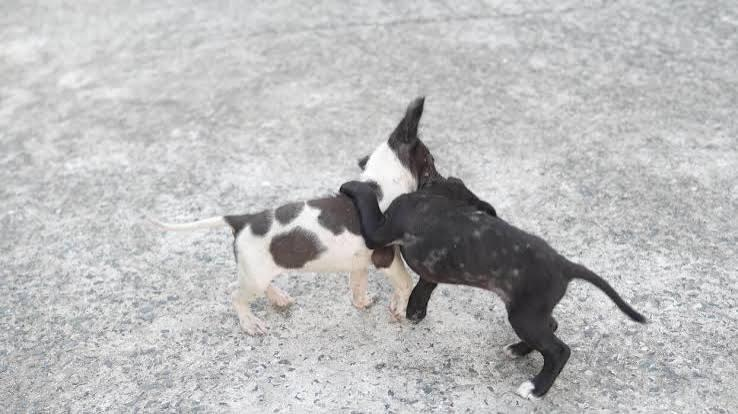puppy-dog: (339, 176, 652, 400), (156, 95, 438, 336)
